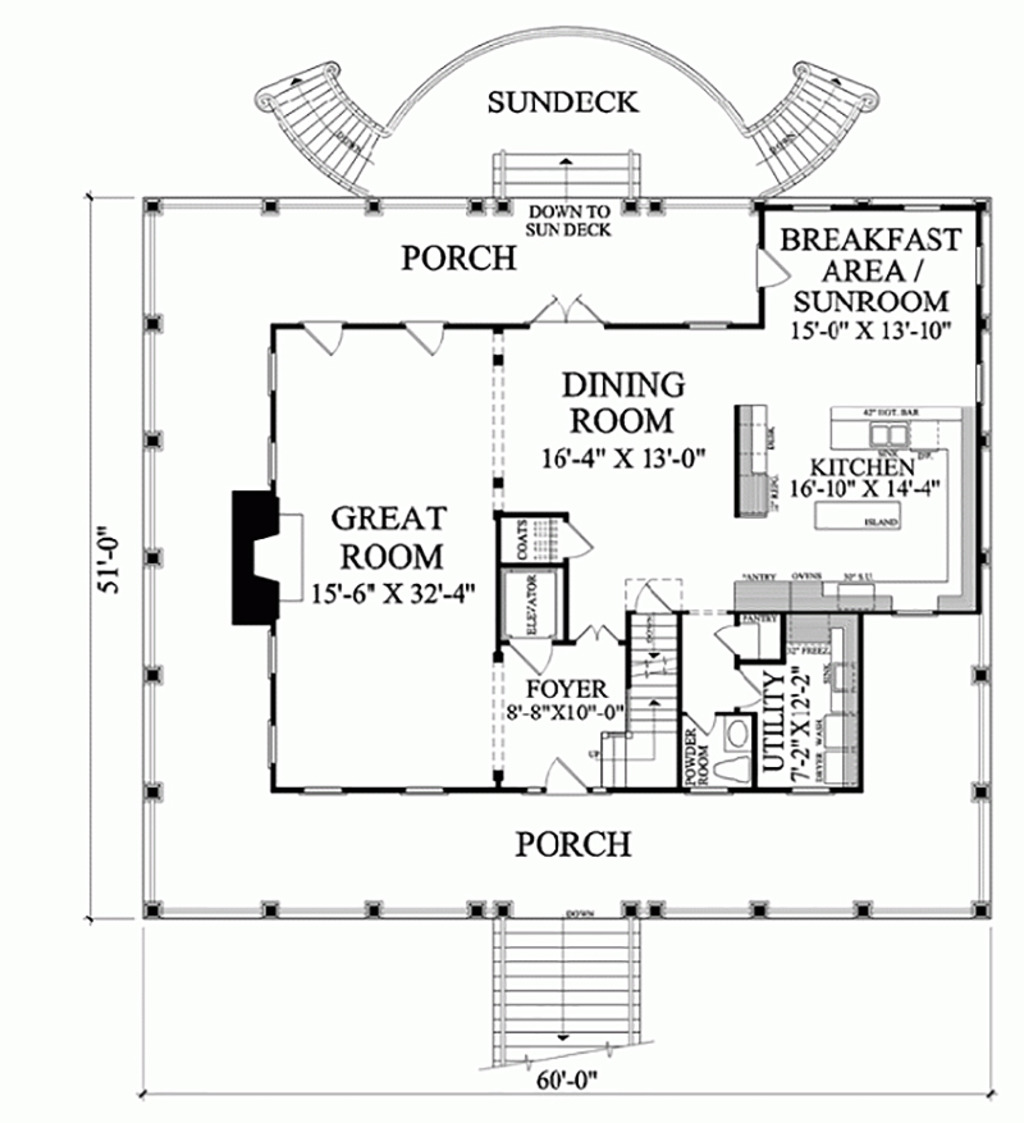door: (527, 298, 610, 334), (543, 757, 599, 808), (502, 640, 555, 678), (303, 317, 343, 364), (752, 248, 795, 287), (397, 321, 443, 357), (710, 623, 741, 662)
kitchen_bar: (730, 395, 780, 517)
stairs: (486, 910, 649, 1067), (740, 51, 881, 199), (245, 52, 383, 197), (595, 617, 681, 790), (485, 151, 643, 210)
twin_sink: (861, 421, 915, 454)
windows: (264, 714, 284, 777), (265, 627, 278, 673)
